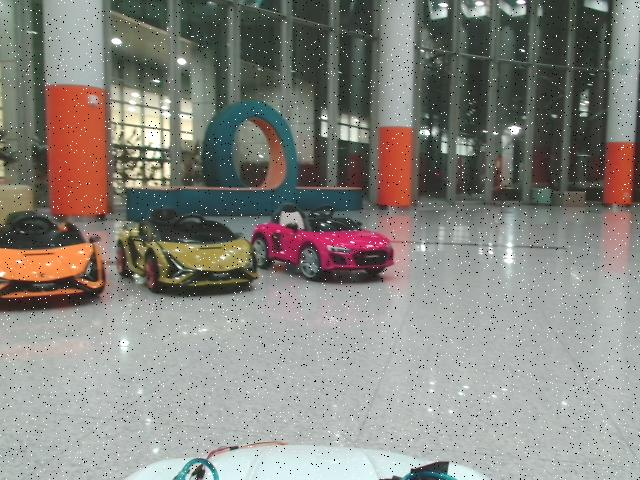car: (117, 207, 258, 293), (249, 202, 395, 281), (1, 211, 105, 305)
